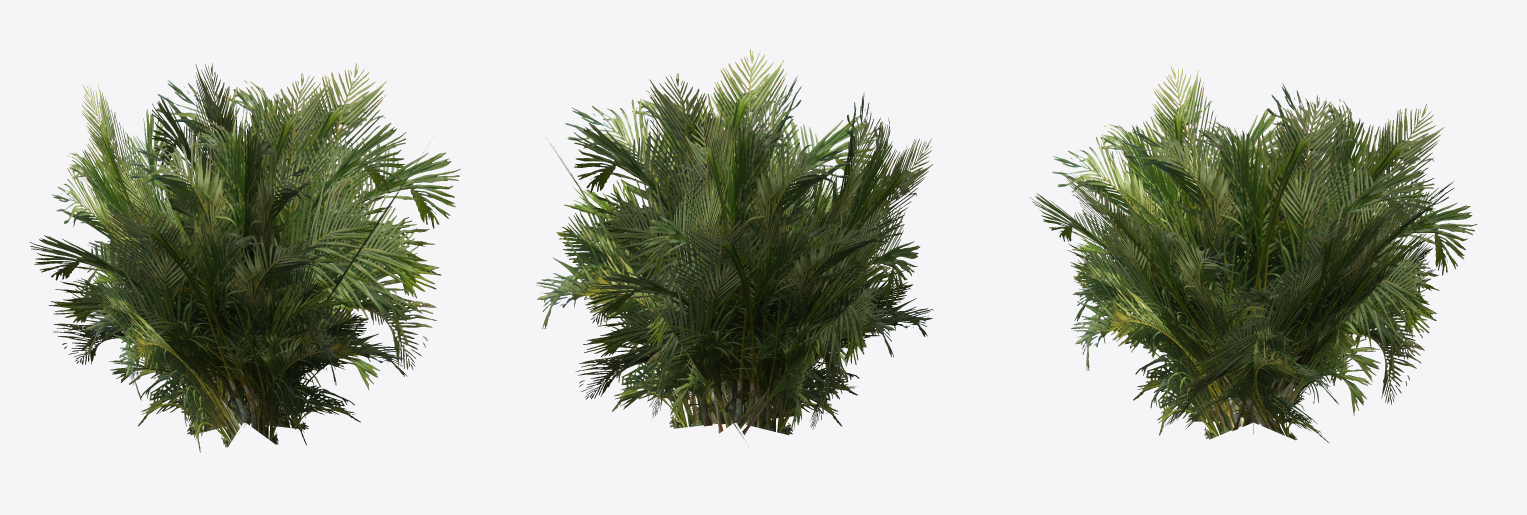
The model's file is bush2.FBX.
The picture shows the model from 3 angles, left to right: view 1: azimuth 30°, elevation 25°; view 2: azimuth 150°, elevation 25°; view 3: azimuth 270°, elevation 25°; orthographic projection. The views are drawn at different scales.
Visible parts, largest first — view 1: bush2; view 2: bush2; view 3: bush2.
Part boxes in pixels (box(x1,y1,x2,y2)): bush2: box(29, 63, 460, 452); bush2: box(536, 49, 933, 446); bush2: box(1030, 66, 1477, 443).
Bounding box in the file's own units: 141 × 100 × 141.
